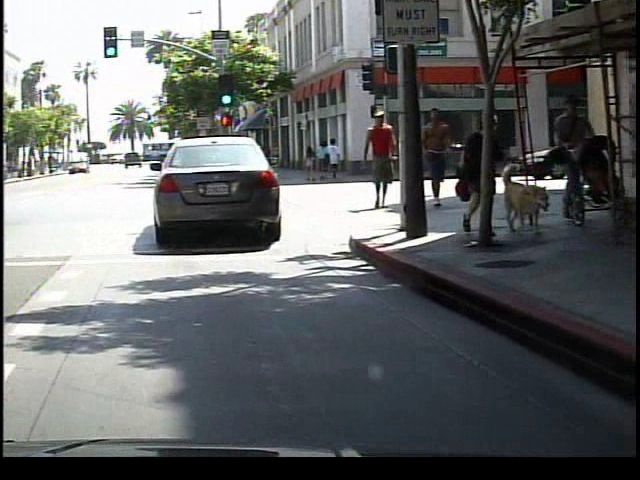person: (359, 106, 401, 216), (418, 103, 458, 215)
